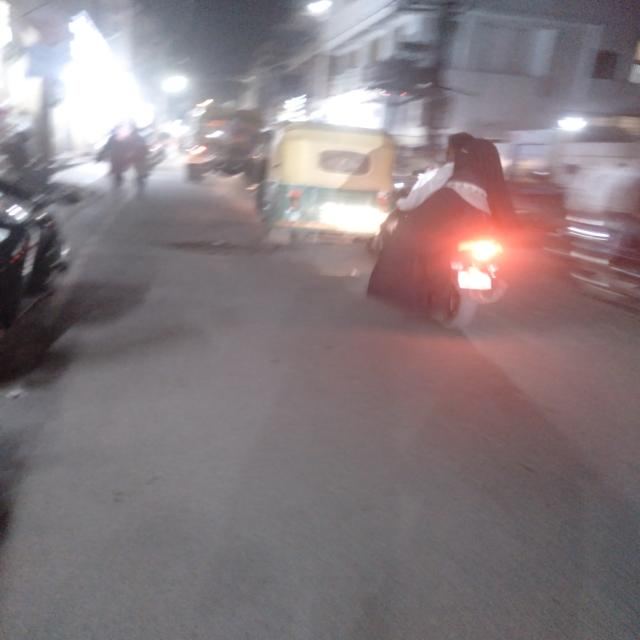Autorickshaw: (246, 102, 396, 248)
Bike: (375, 141, 526, 340), (0, 166, 97, 341)
